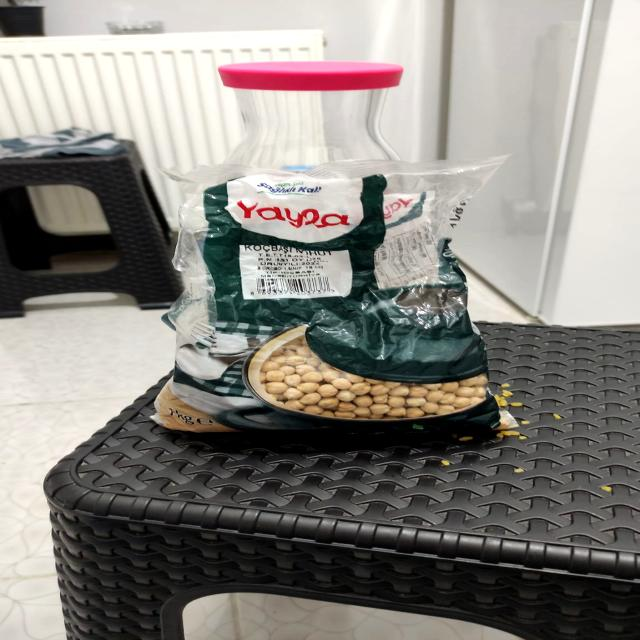chickpeas: (153, 161, 500, 429)
